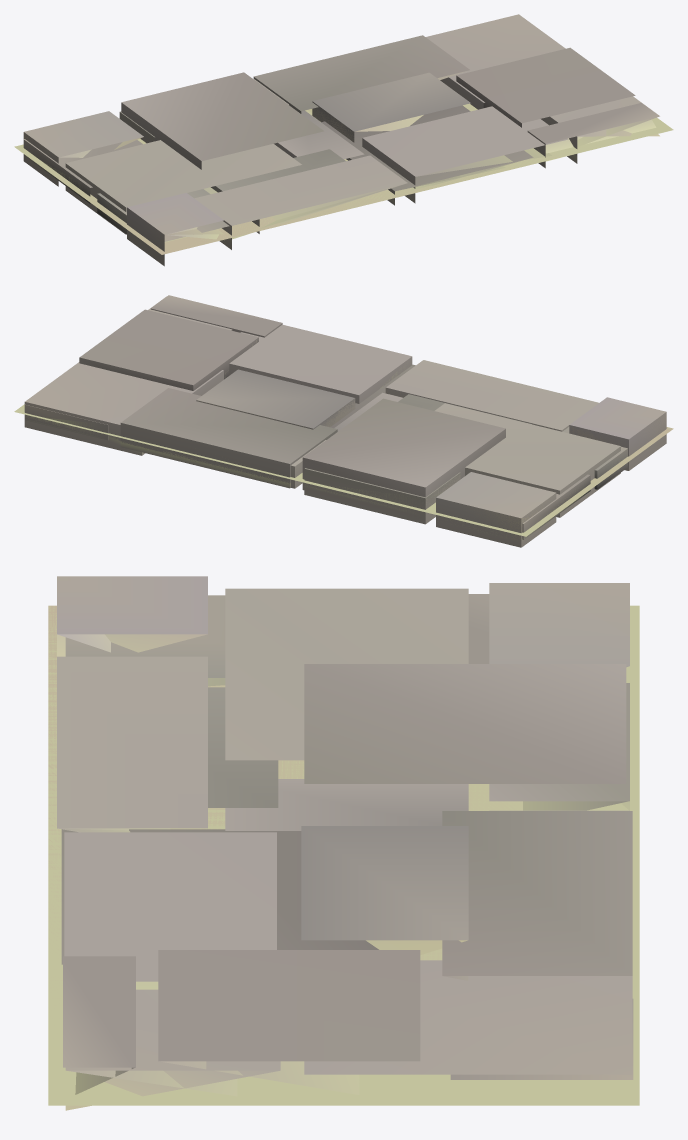
File: tile.glb
The picture shows the model from 3 angles, top to bottom: view 1: azimuth 30°, elevation 25°; view 2: azimuth 150°, elevation 25°; view 3: azimuth 270°, elevation 25°; orthographic projection. The views are drawn at different scales.
Visible parts, largest first — view 1: TileA_0, TileB_0, TileA_2, TileB_2, TileA_1, TileA_3, TileB_1, TileB_3; view 2: TileA_0, TileB_0, TileA_2, TileA_1, TileB_1, TileB_2, TileA_3, TileB_3; view 3: TileA_0, TileB_0, TileA_1, TileA_2, TileA_3, TileB_3.
Boxes of the visible parts, x1,y1,x2,y2 form: TileA_0: [14, 14, 659, 256]; TileB_0: [23, 35, 673, 253]; TileA_2: [23, 108, 658, 266]; TileB_2: [97, 79, 656, 242]; TileA_1: [23, 80, 577, 258]; TileA_3: [38, 108, 659, 262]; TileB_1: [23, 76, 521, 216]; TileB_3: [23, 71, 520, 233]; TileA_0: [24, 296, 673, 537]; TileB_0: [14, 295, 672, 538]; TileA_2: [24, 360, 666, 547]; TileA_1: [25, 357, 666, 540]; TileB_1: [79, 338, 627, 537]; TileB_2: [80, 309, 627, 497]; TileA_3: [205, 357, 666, 543]; TileB_3: [25, 339, 597, 539]; TileA_0: [48, 576, 639, 1105]; TileB_0: [48, 594, 639, 1105]; TileA_1: [67, 634, 629, 1096]; TileA_2: [57, 634, 628, 989]; TileA_3: [57, 634, 279, 1110]; TileB_3: [159, 1061, 359, 1094].
Size of the model in its own units: 2 by 0.1347 by 1.
